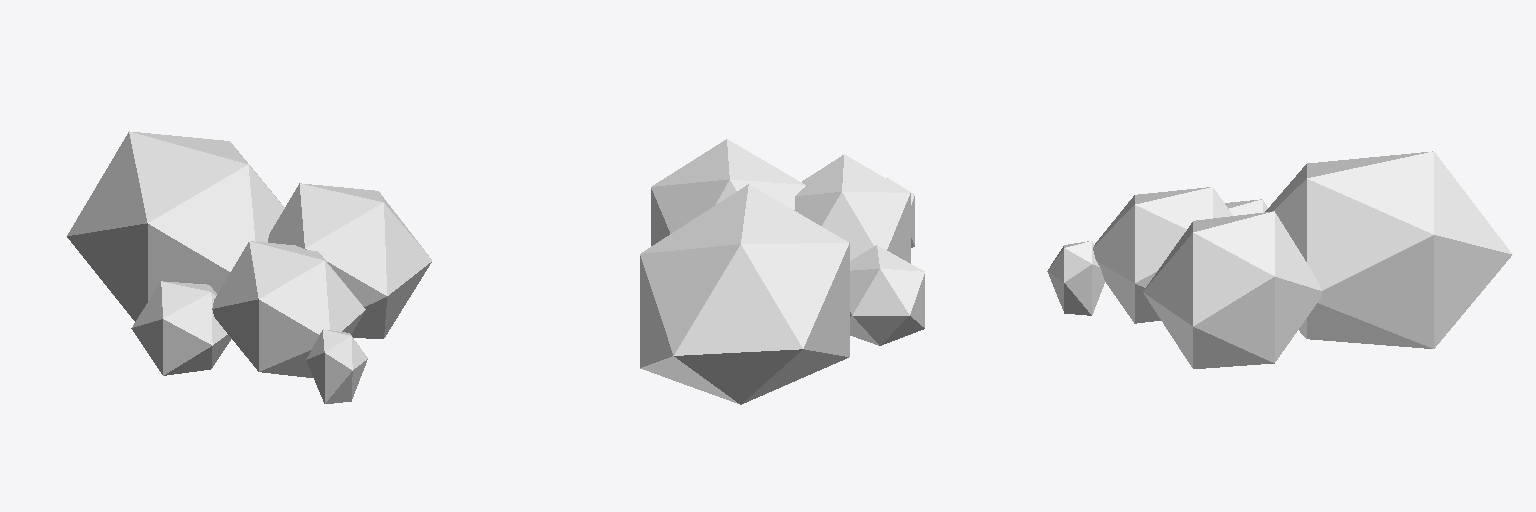
File: cloud2.obj
3 views of the same model, side by side, from view 1: azimuth 30°, elevation 25°; view 2: azimuth 150°, elevation 25°; view 3: azimuth 270°, elevation 25° (orthographic).
Size of the model in its own units: 16.11 by 9.28 by 24.36.